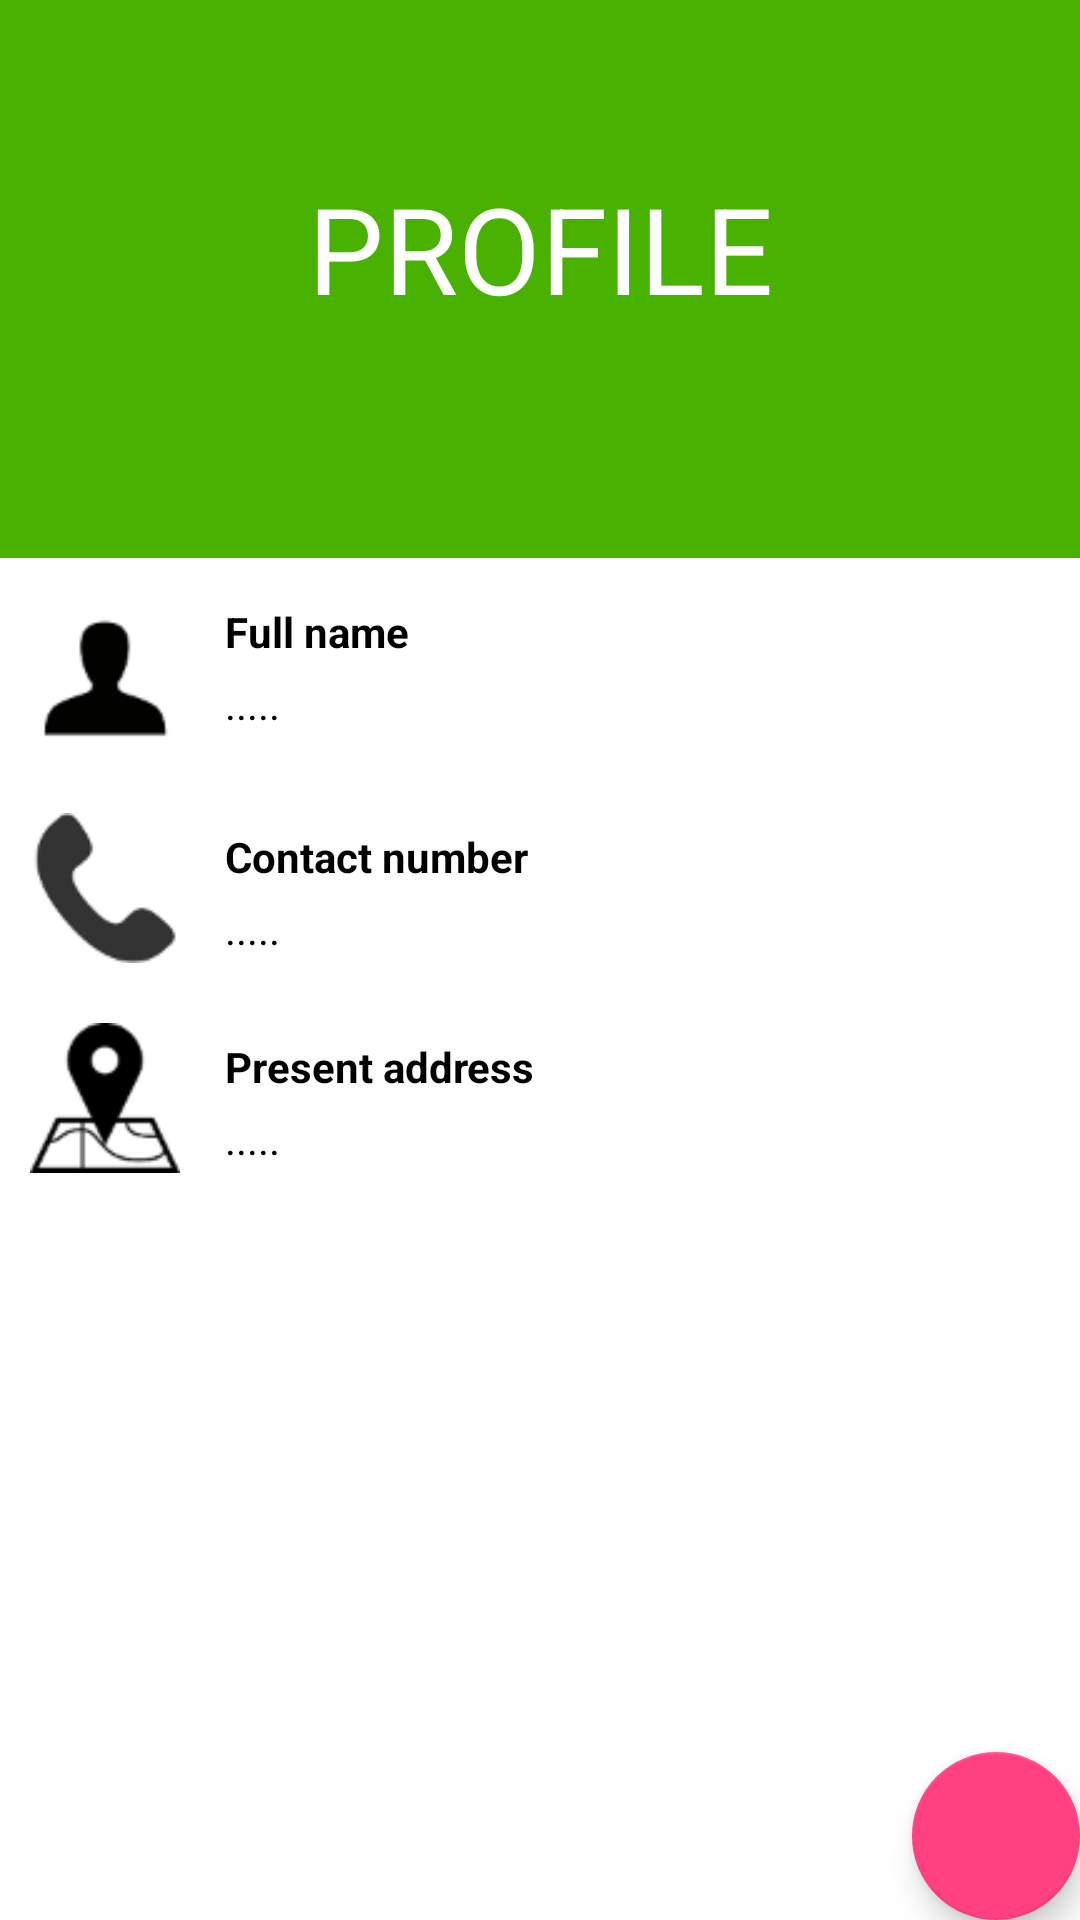

Icons on this 1080px×1920px Android screen, each with its box as (x1, y1, x2, y2):
phone: (35, 813, 176, 963)
